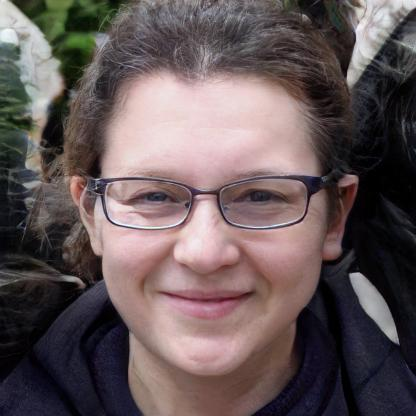glasses: (93, 169, 329, 232)
